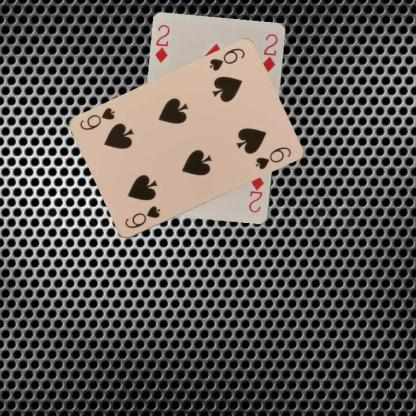2d: (246, 172, 266, 214), (152, 22, 172, 64)
6s: (122, 203, 162, 230), (206, 46, 246, 72)
